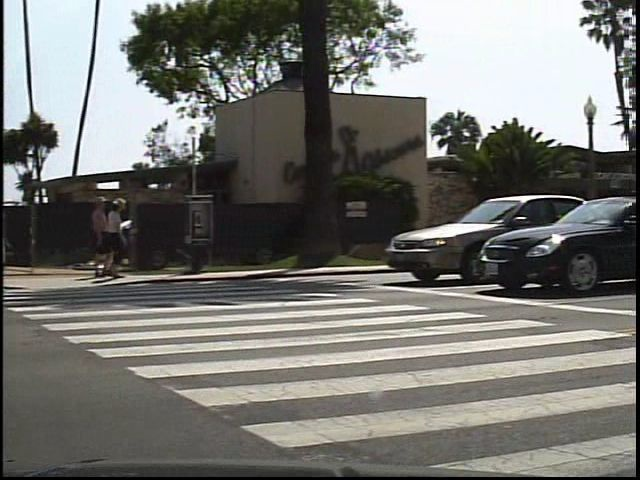person: (2, 194, 23, 294)
